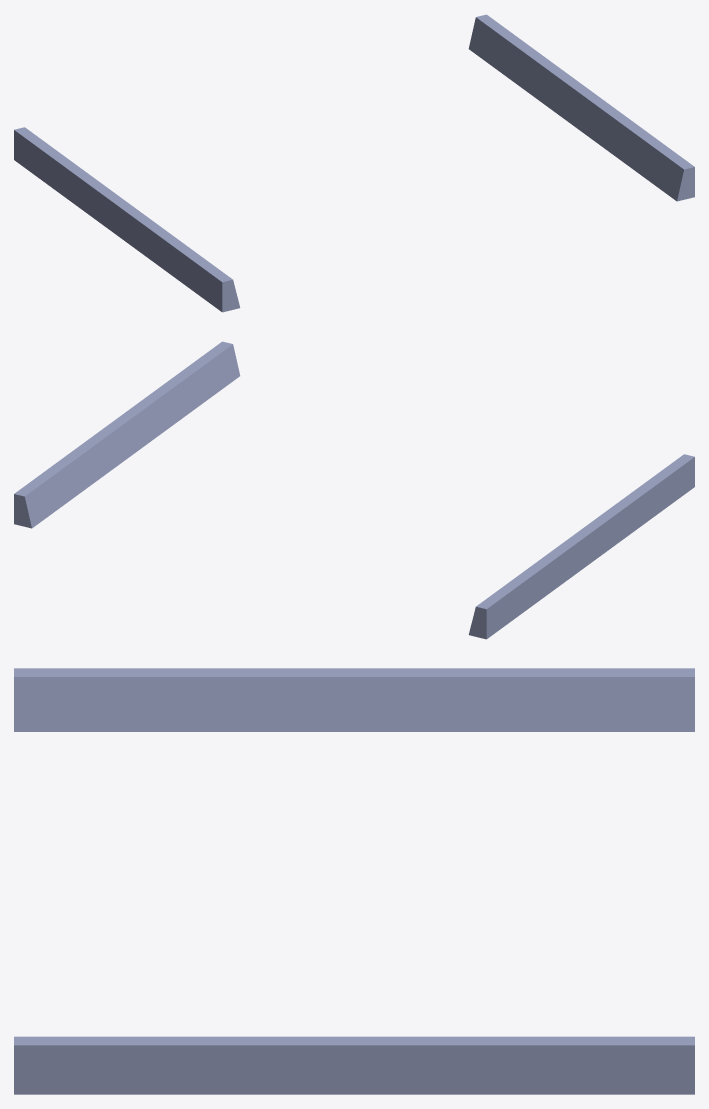
The model's file is road-side-barrier.glb.
3 views of the same model, one above another, from view 1: azimuth 30°, elevation 25°; view 2: azimuth 150°, elevation 25°; view 3: azimuth 270°, elevation 25° (orthographic). The views are drawn at different scales.
Parts seen in each view (by area): view 1: road-side-barrier; view 2: road-side-barrier; view 3: road-side-barrier.
Boxes of the visible parts, box(x1,y1,x2,y2) form: road-side-barrier: box(14, 14, 694, 312); road-side-barrier: box(14, 341, 694, 639); road-side-barrier: box(14, 668, 694, 1094).
Bounding box in the file's own units: 1.31 × 0.08 × 1.
Materials: 1 (1 with a texture image).
